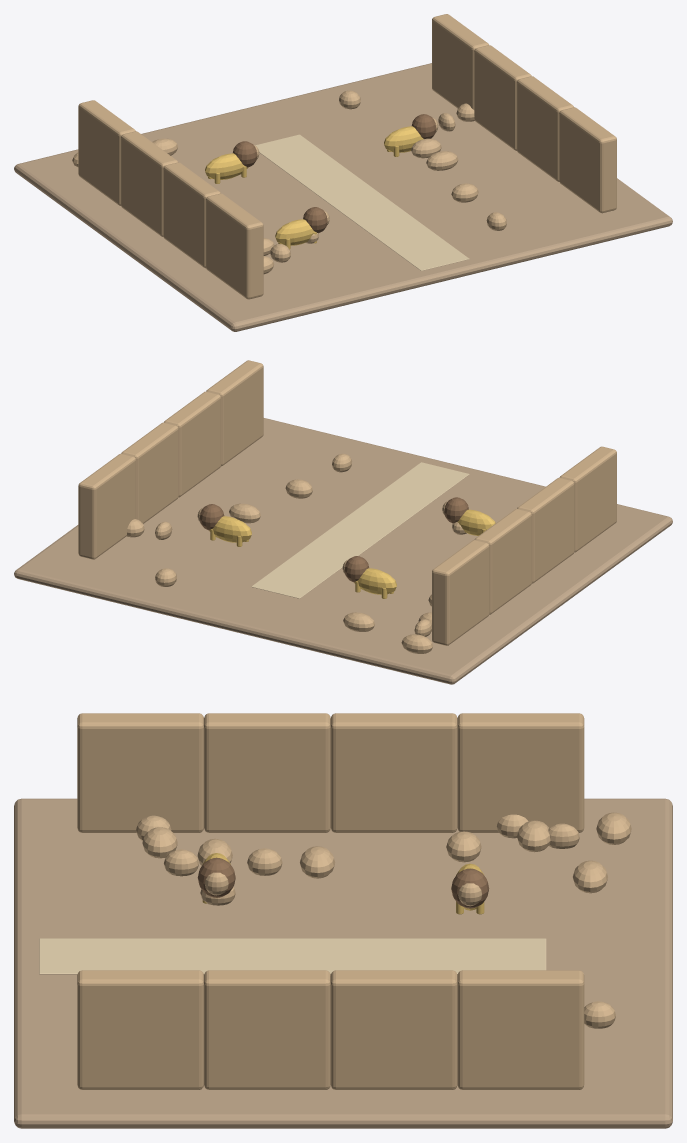
File: story-daniel.glb
The picture shows the model from 3 angles, top to bottom: view 1: azimuth 30°, elevation 25°; view 2: azimuth 150°, elevation 25°; view 3: azimuth 270°, elevation 25°; orthographic projection. The views are drawn at different scales.
Parts seen in each view (by area): view 1: Game mesh Ground.003, Game mesh Ochre plaster.003, Game mesh Sunlit stone.003, Game mesh Royal gold.003, Game mesh Cedar beams.003; view 2: Game mesh Ground.003, Game mesh Ochre plaster.003, Game mesh Sunlit stone.003, Game mesh Royal gold.003, Game mesh Cedar beams.003; view 3: Game mesh Ochre plaster.003, Game mesh Ground.003, Game mesh Sunlit stone.003, Game mesh Cedar beams.003.
Boxes of the visible parts, bbox=[...] form: Game mesh Ground.003: bbox=[14, 63, 672, 331]; Game mesh Ochre plaster.003: bbox=[72, 14, 616, 299]; Game mesh Sunlit stone.003: bbox=[255, 134, 469, 270]; Game mesh Royal gold.003: bbox=[205, 126, 423, 249]; Game mesh Cedar beams.003: bbox=[233, 114, 436, 233]; Game mesh Ground.003: bbox=[14, 418, 672, 684]; Game mesh Ochre plaster.003: bbox=[78, 360, 616, 653]; Game mesh Sunlit stone.003: bbox=[251, 462, 469, 598]; Game mesh Royal gold.003: bbox=[209, 509, 495, 598]; Game mesh Cedar beams.003: bbox=[199, 497, 468, 582]; Game mesh Ochre plaster.003: bbox=[77, 713, 631, 1089]; Game mesh Ground.003: bbox=[14, 798, 672, 1128]; Game mesh Sunlit stone.003: bbox=[39, 938, 546, 974]; Game mesh Cedar beams.003: bbox=[197, 857, 489, 908].
Size of the model in its own units: 30 by 5.4 by 26.
